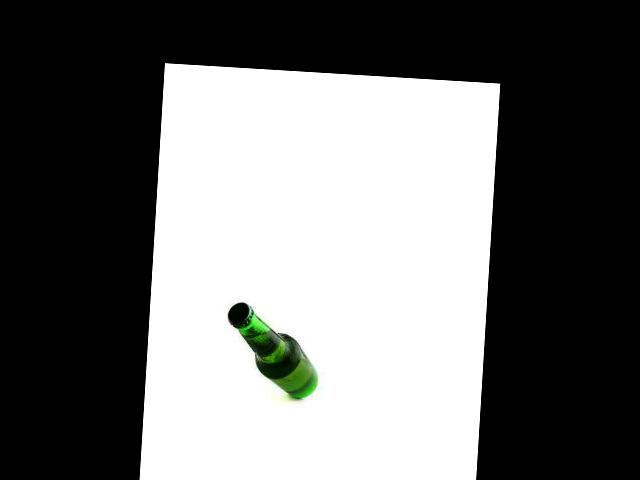beer: (222, 302, 322, 400)
